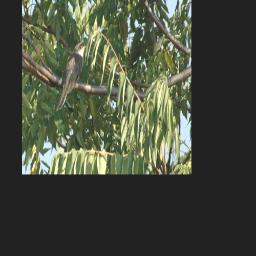Cuckoo: (54, 41, 88, 113)
